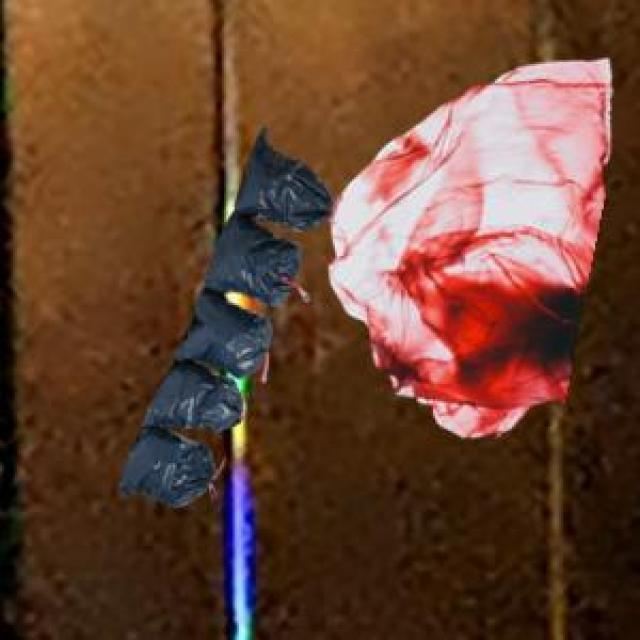miscellaneous trash: (115, 124, 329, 504)
